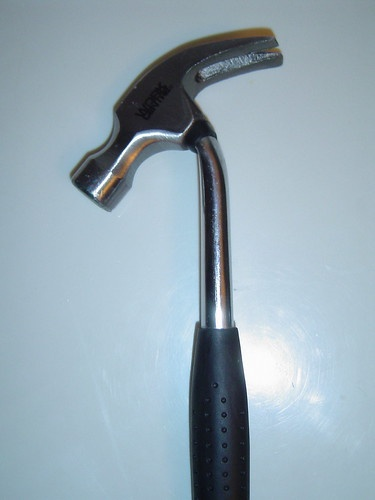hammer: (70, 22, 282, 498)
